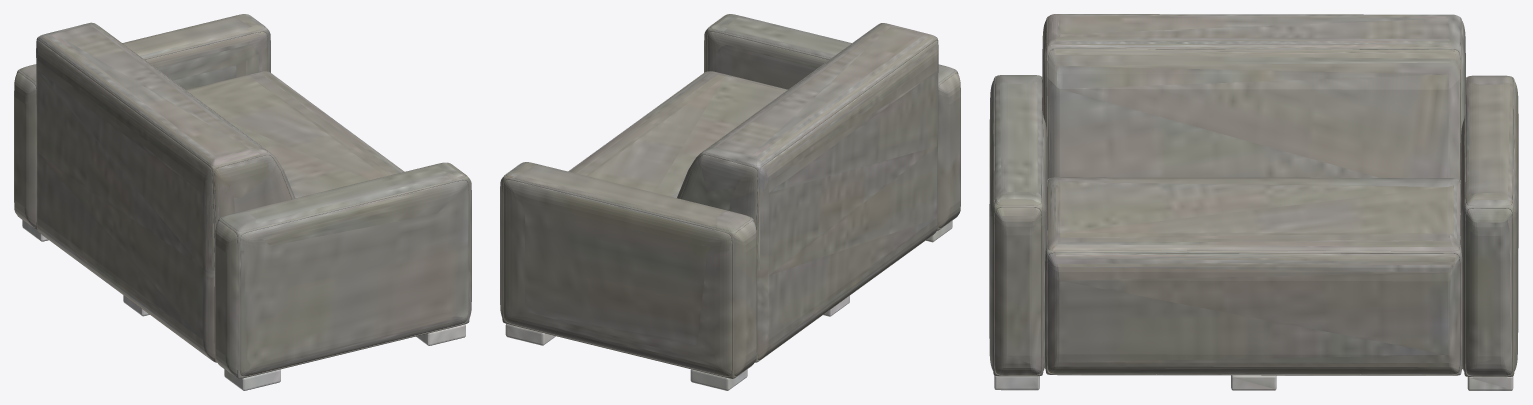
Rendered from sofa_0.glb.
The picture shows the model from 3 angles, left to right: view 1: azimuth 30°, elevation 25°; view 2: azimuth 150°, elevation 25°; view 3: azimuth 270°, elevation 25°; orthographic projection. The views are drawn at different scales.
Visible parts, largest first — view 1: sofa_0; view 2: sofa_0; view 3: sofa_0.
Part boxes in pixels (x1,y1,x2,y2): sofa_0: (14,14,471,390); sofa_0: (500,14,960,390); sofa_0: (989,14,1518,390).
Size of the model in its own units: 1.05 by 0.8708 by 1.67.
Materials: 1 (1 with a texture image).
